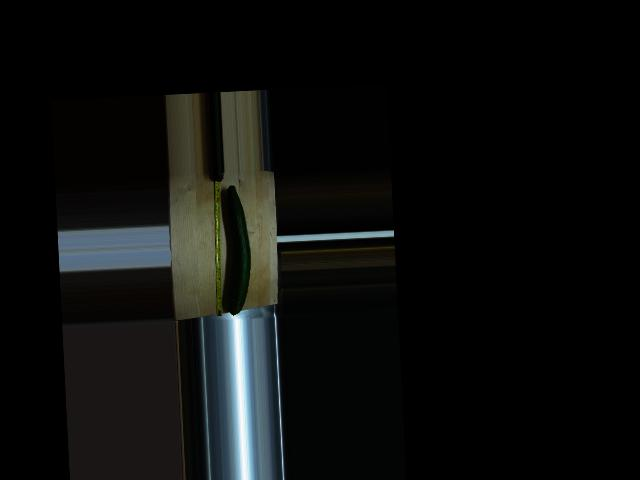cucumber: (221, 184, 253, 315)
